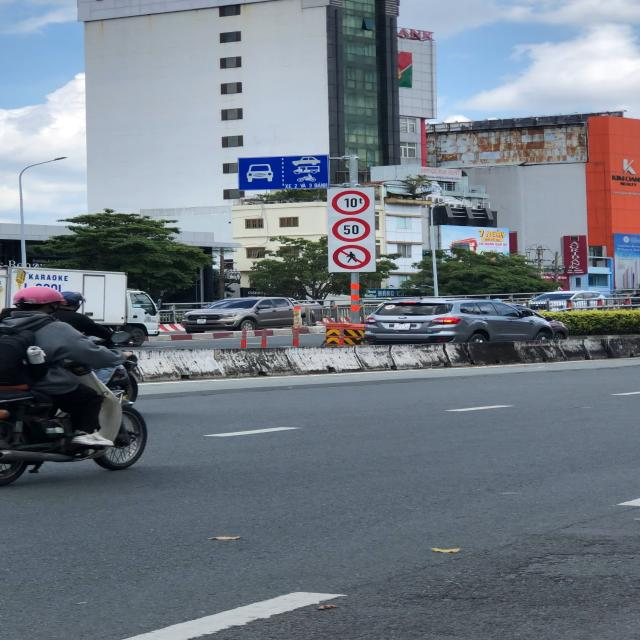Bien bao cam nguoi di bo: (330, 243, 374, 270)
Bien bao toc do toi da cho phep: (332, 216, 375, 244)
